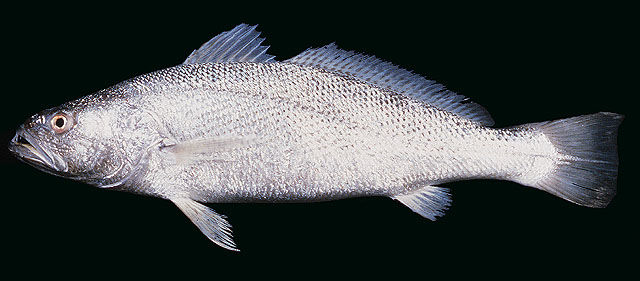fish: (10, 22, 622, 253)
